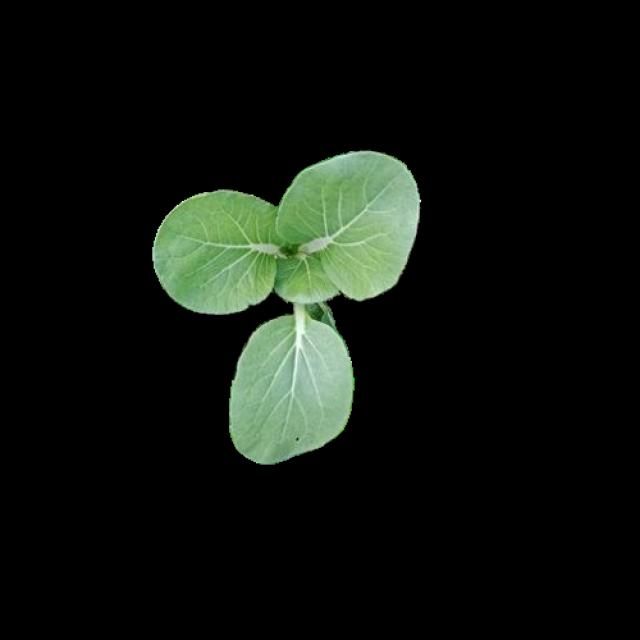healthy: (155, 147, 418, 461)
not-mature: (155, 149, 418, 462)
